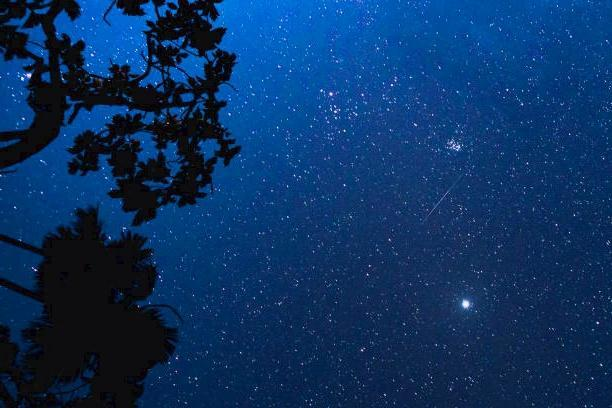meteorite: (411, 173, 464, 227)
